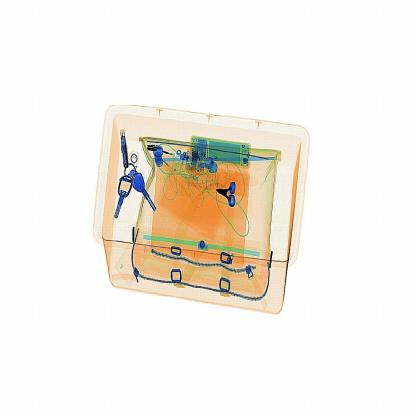gun: (202, 175, 247, 212)
